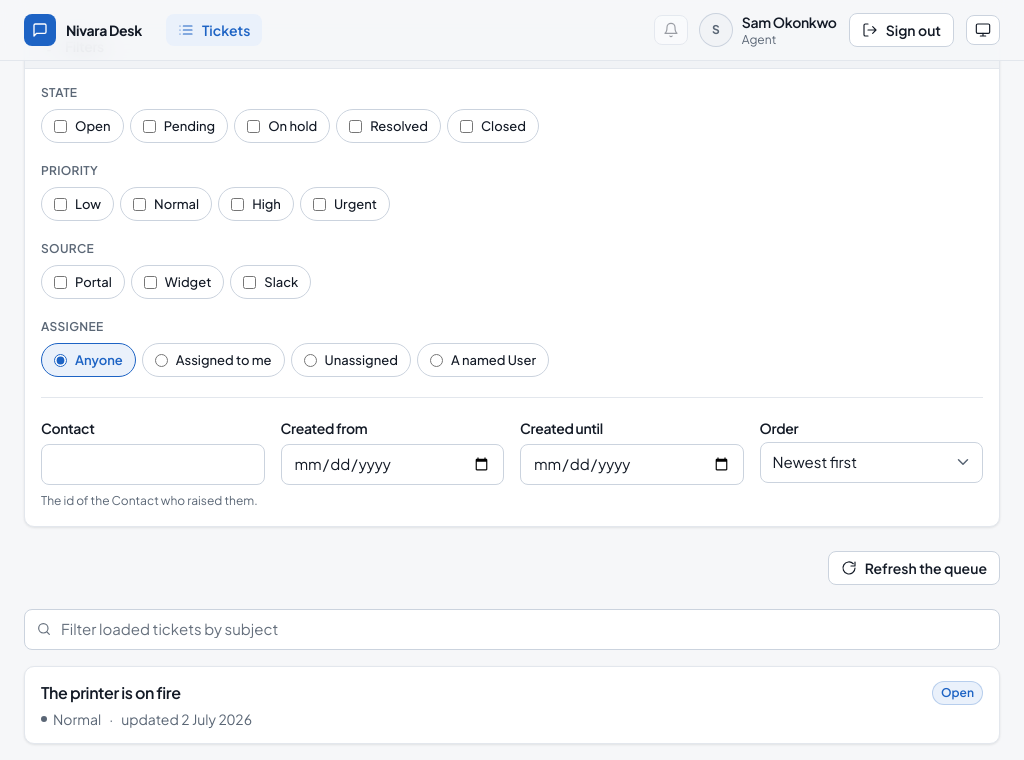
a conversation that has run through more than one Ticket › reads as one history, oldest part first
The width and height of the screenshot is (1024, 760).
(page scrolled)
Click the button "The printer is on fire Normal · updated 2 July 2026 Open" at (111, 692), box [25, 666, 999, 742]
(page scrolled)
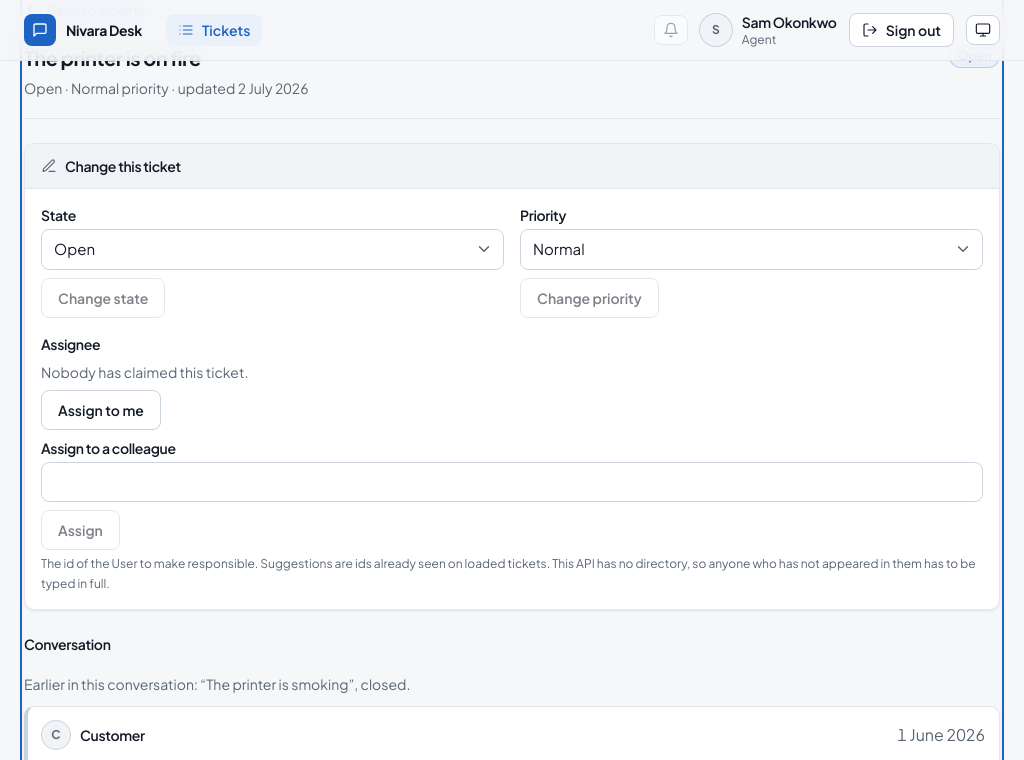
Result: the heading "The printer is on fire" is shown at [24, 44, 201, 72]
